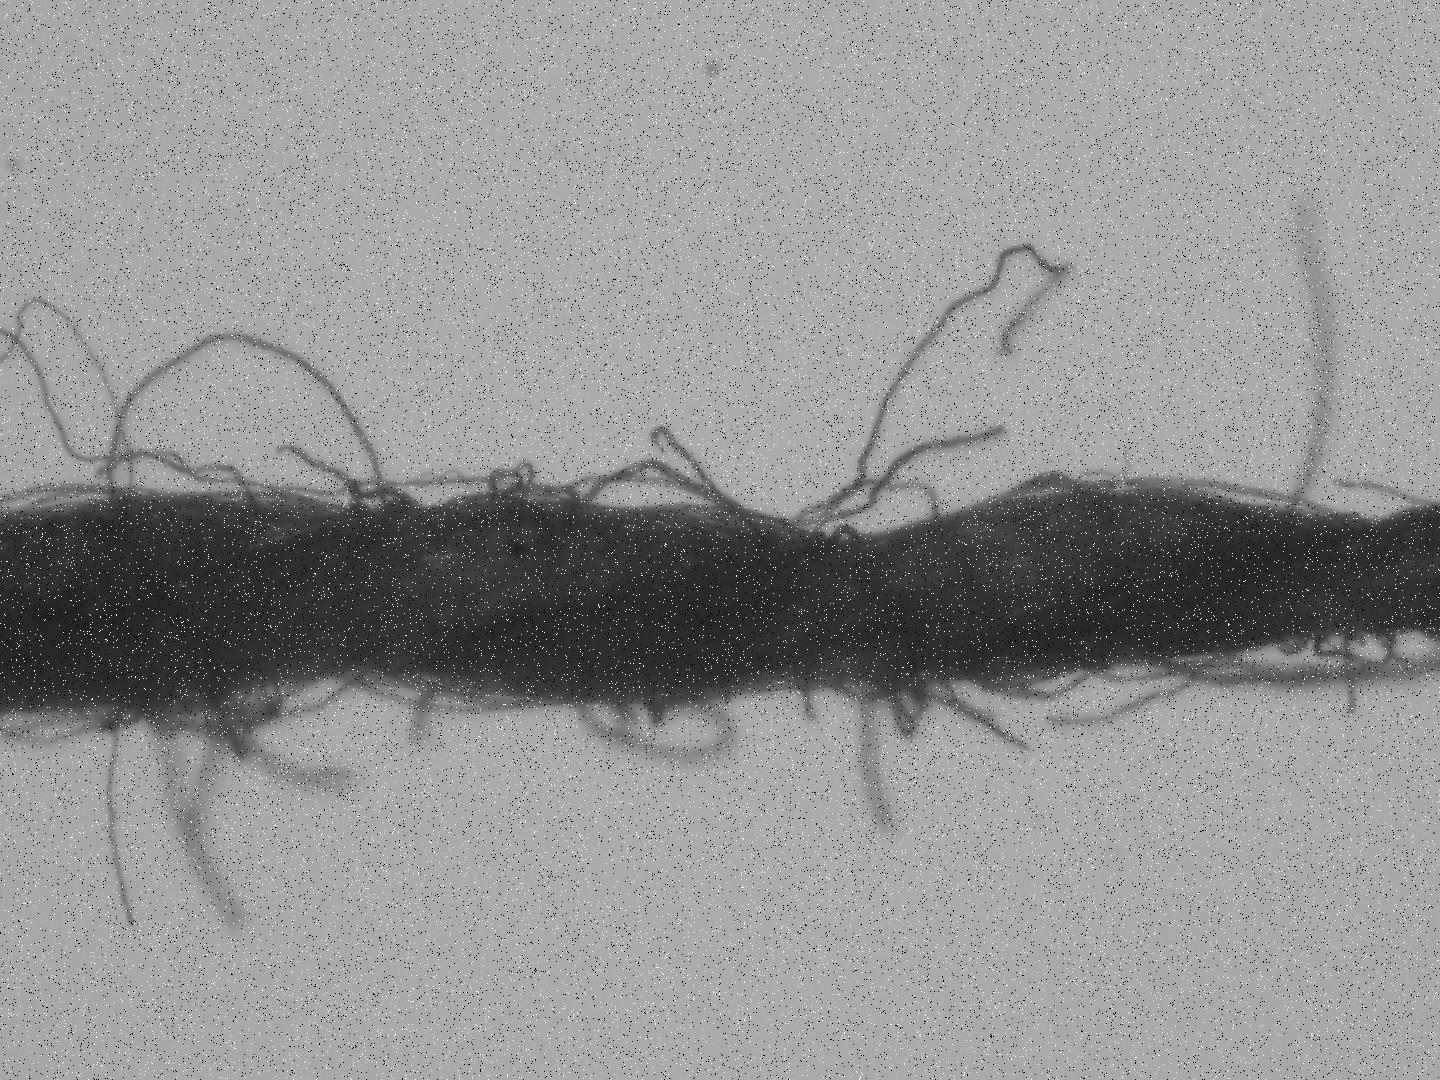loop_fiber: (102, 326, 399, 512), (884, 651, 1171, 756), (144, 712, 247, 931), (482, 452, 790, 517), (1132, 627, 1435, 690), (574, 691, 738, 770), (146, 680, 281, 752), (839, 487, 943, 547)
protruding_fiber: (807, 235, 1077, 551), (813, 422, 1013, 538), (1039, 642, 1269, 733), (1284, 203, 1341, 520), (99, 712, 141, 939), (854, 692, 893, 836), (1328, 474, 1435, 504), (413, 680, 444, 754), (797, 676, 823, 726)
